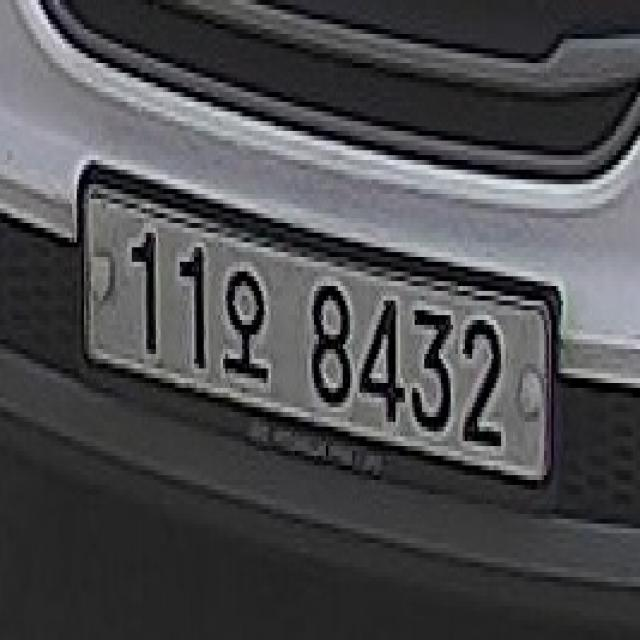1: (120, 208, 168, 368), (173, 233, 213, 378)
2: (456, 315, 508, 456)
3: (408, 301, 456, 451)
4: (357, 286, 408, 432)
8: (302, 266, 360, 422)
license_plate: (72, 146, 563, 504)
o: (218, 252, 276, 388)
